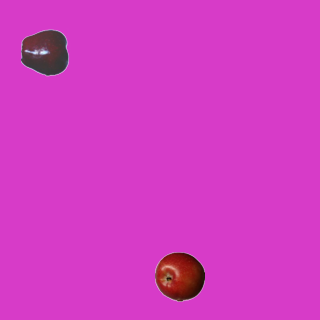Apple Braeburn: (154, 251, 204, 301)
Apple Red Delicious: (20, 27, 70, 77)
